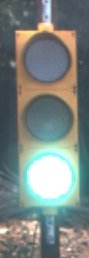Green: (8, 22, 88, 228)
